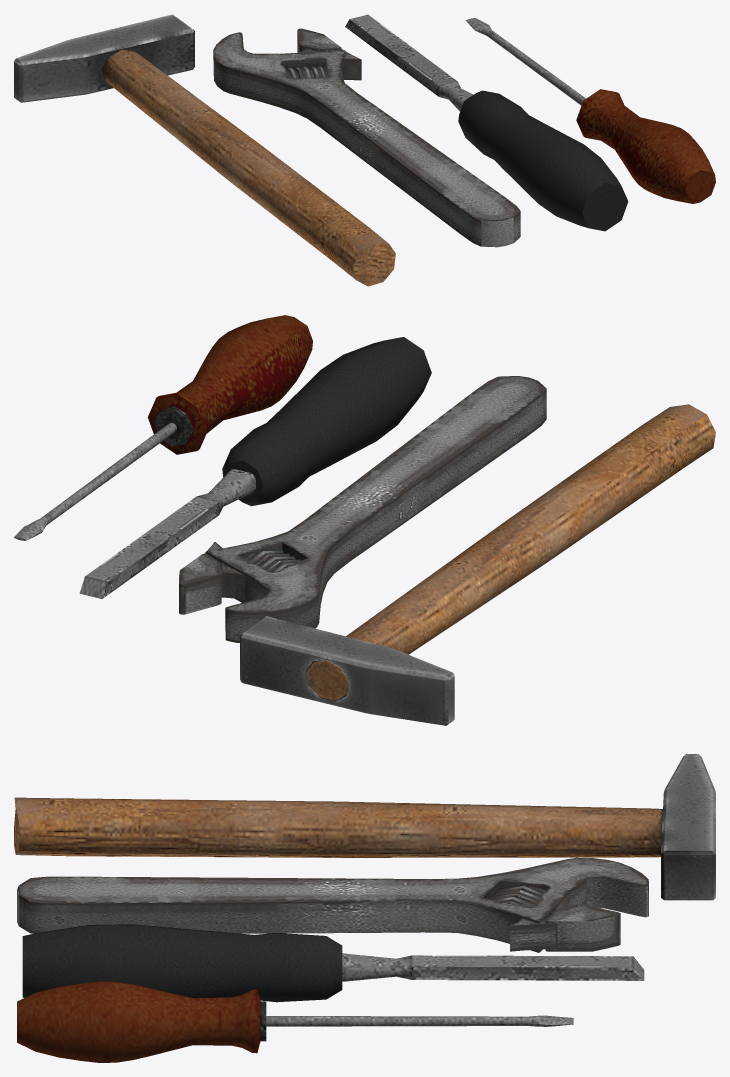
Rendered from toolz.fbx.
The picture shows the model from 3 angles, top to bottom: view 1: azimuth 30°, elevation 25°; view 2: azimuth 150°, elevation 25°; view 3: azimuth 270°, elevation 25°; orthographic projection. The views are drawn at different scales.
Visible parts, largest first — view 1: Cube.001, Cylinder, Cylinder.002, Cube, Cylinder.003, Cube.004, Cylinder.004, Cube.002, Cube.003; view 2: Cube.001, Cylinder, Cylinder.002, Cube, Cylinder.003, Cube.004, Cube.002, Cylinder.004, Cube.003, Spiral; view 3: Cylinder, Cube.001, Cylinder.002, Cylinder.003, Cube.004, Cube, Cylinder.004, Cube.002, Cube.003, Spiral.
Part boxes in pixels (x1,y1,x2,y2): Cube.001: [213, 32, 520, 247]; Cylinder: [102, 49, 395, 286]; Cylinder.002: [458, 90, 628, 231]; Cube: [14, 14, 194, 102]; Cylinder.003: [576, 89, 715, 203]; Cube.004: [345, 14, 473, 111]; Cylinder.004: [465, 18, 585, 105]; Cube.002: [297, 28, 341, 52]; Cube.003: [299, 48, 361, 80]; Cube.001: [206, 376, 546, 642]; Cylinder: [306, 404, 715, 700]; Cylinder.002: [222, 337, 431, 506]; Cube: [240, 616, 454, 725]; Cylinder.003: [147, 315, 312, 454]; Cube.004: [79, 469, 255, 598]; Cube.002: [179, 554, 221, 614]; Cylinder.004: [14, 422, 176, 540]; Cube.003: [204, 542, 245, 600]; Spiral: [245, 550, 300, 571]; Cylinder: [14, 797, 662, 857]; Cube.001: [17, 857, 648, 952]; Cylinder.002: [22, 924, 342, 1002]; Cylinder.003: [17, 981, 266, 1062]; Cube.004: [342, 953, 644, 981]; Cube: [661, 754, 715, 900]; Cylinder.004: [266, 1015, 573, 1026]; Cube.002: [545, 904, 620, 951]; Cube.003: [510, 898, 568, 951]; Spiral: [490, 885, 545, 907].
Bounding box in the file's own units: 158 × 23.48 × 180.
Materials: 1 (1 with a texture image).
